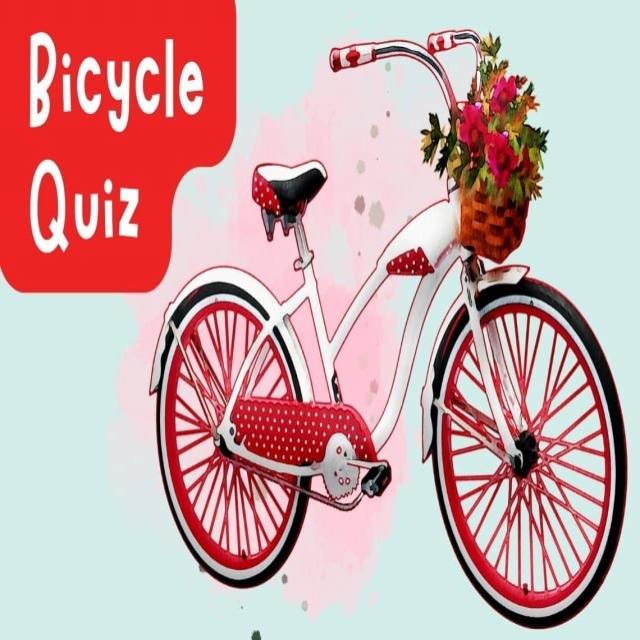bicycle: (146, 26, 634, 628)
